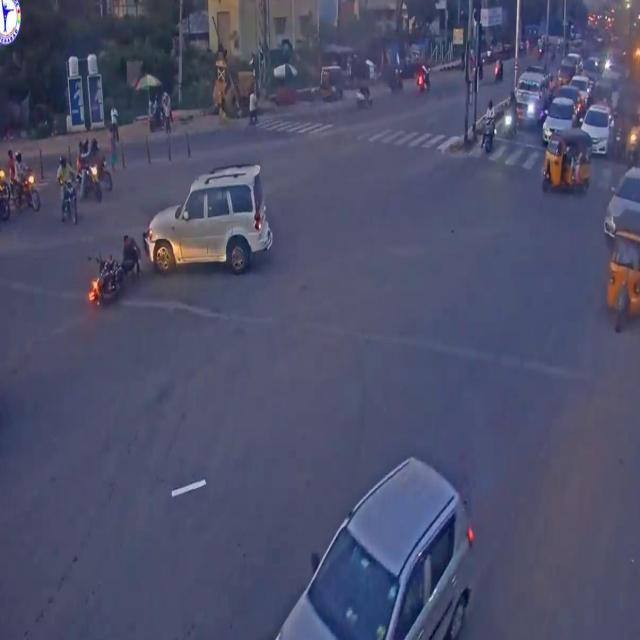accident: (84, 150, 276, 316)
non_accident: (476, 67, 640, 199), (53, 131, 105, 229), (0, 140, 44, 239)
